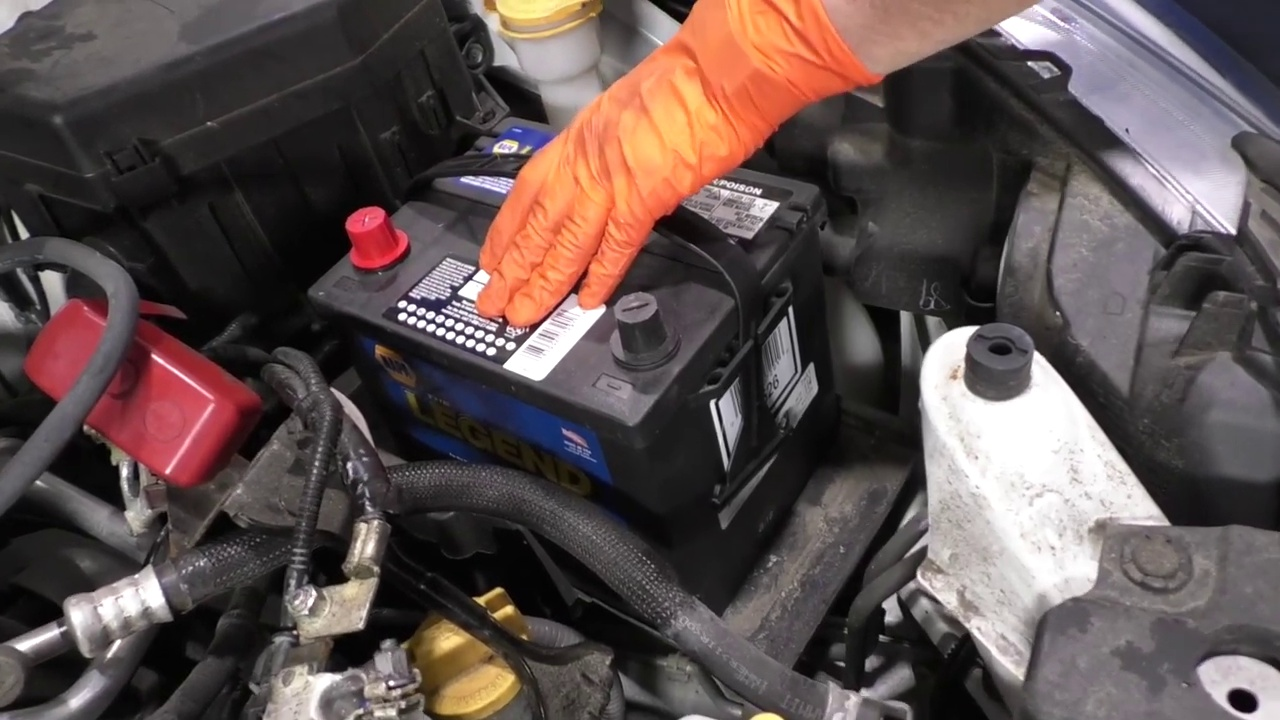battery: (322, 114, 825, 419)
pos_disconnected: (309, 180, 453, 304)
